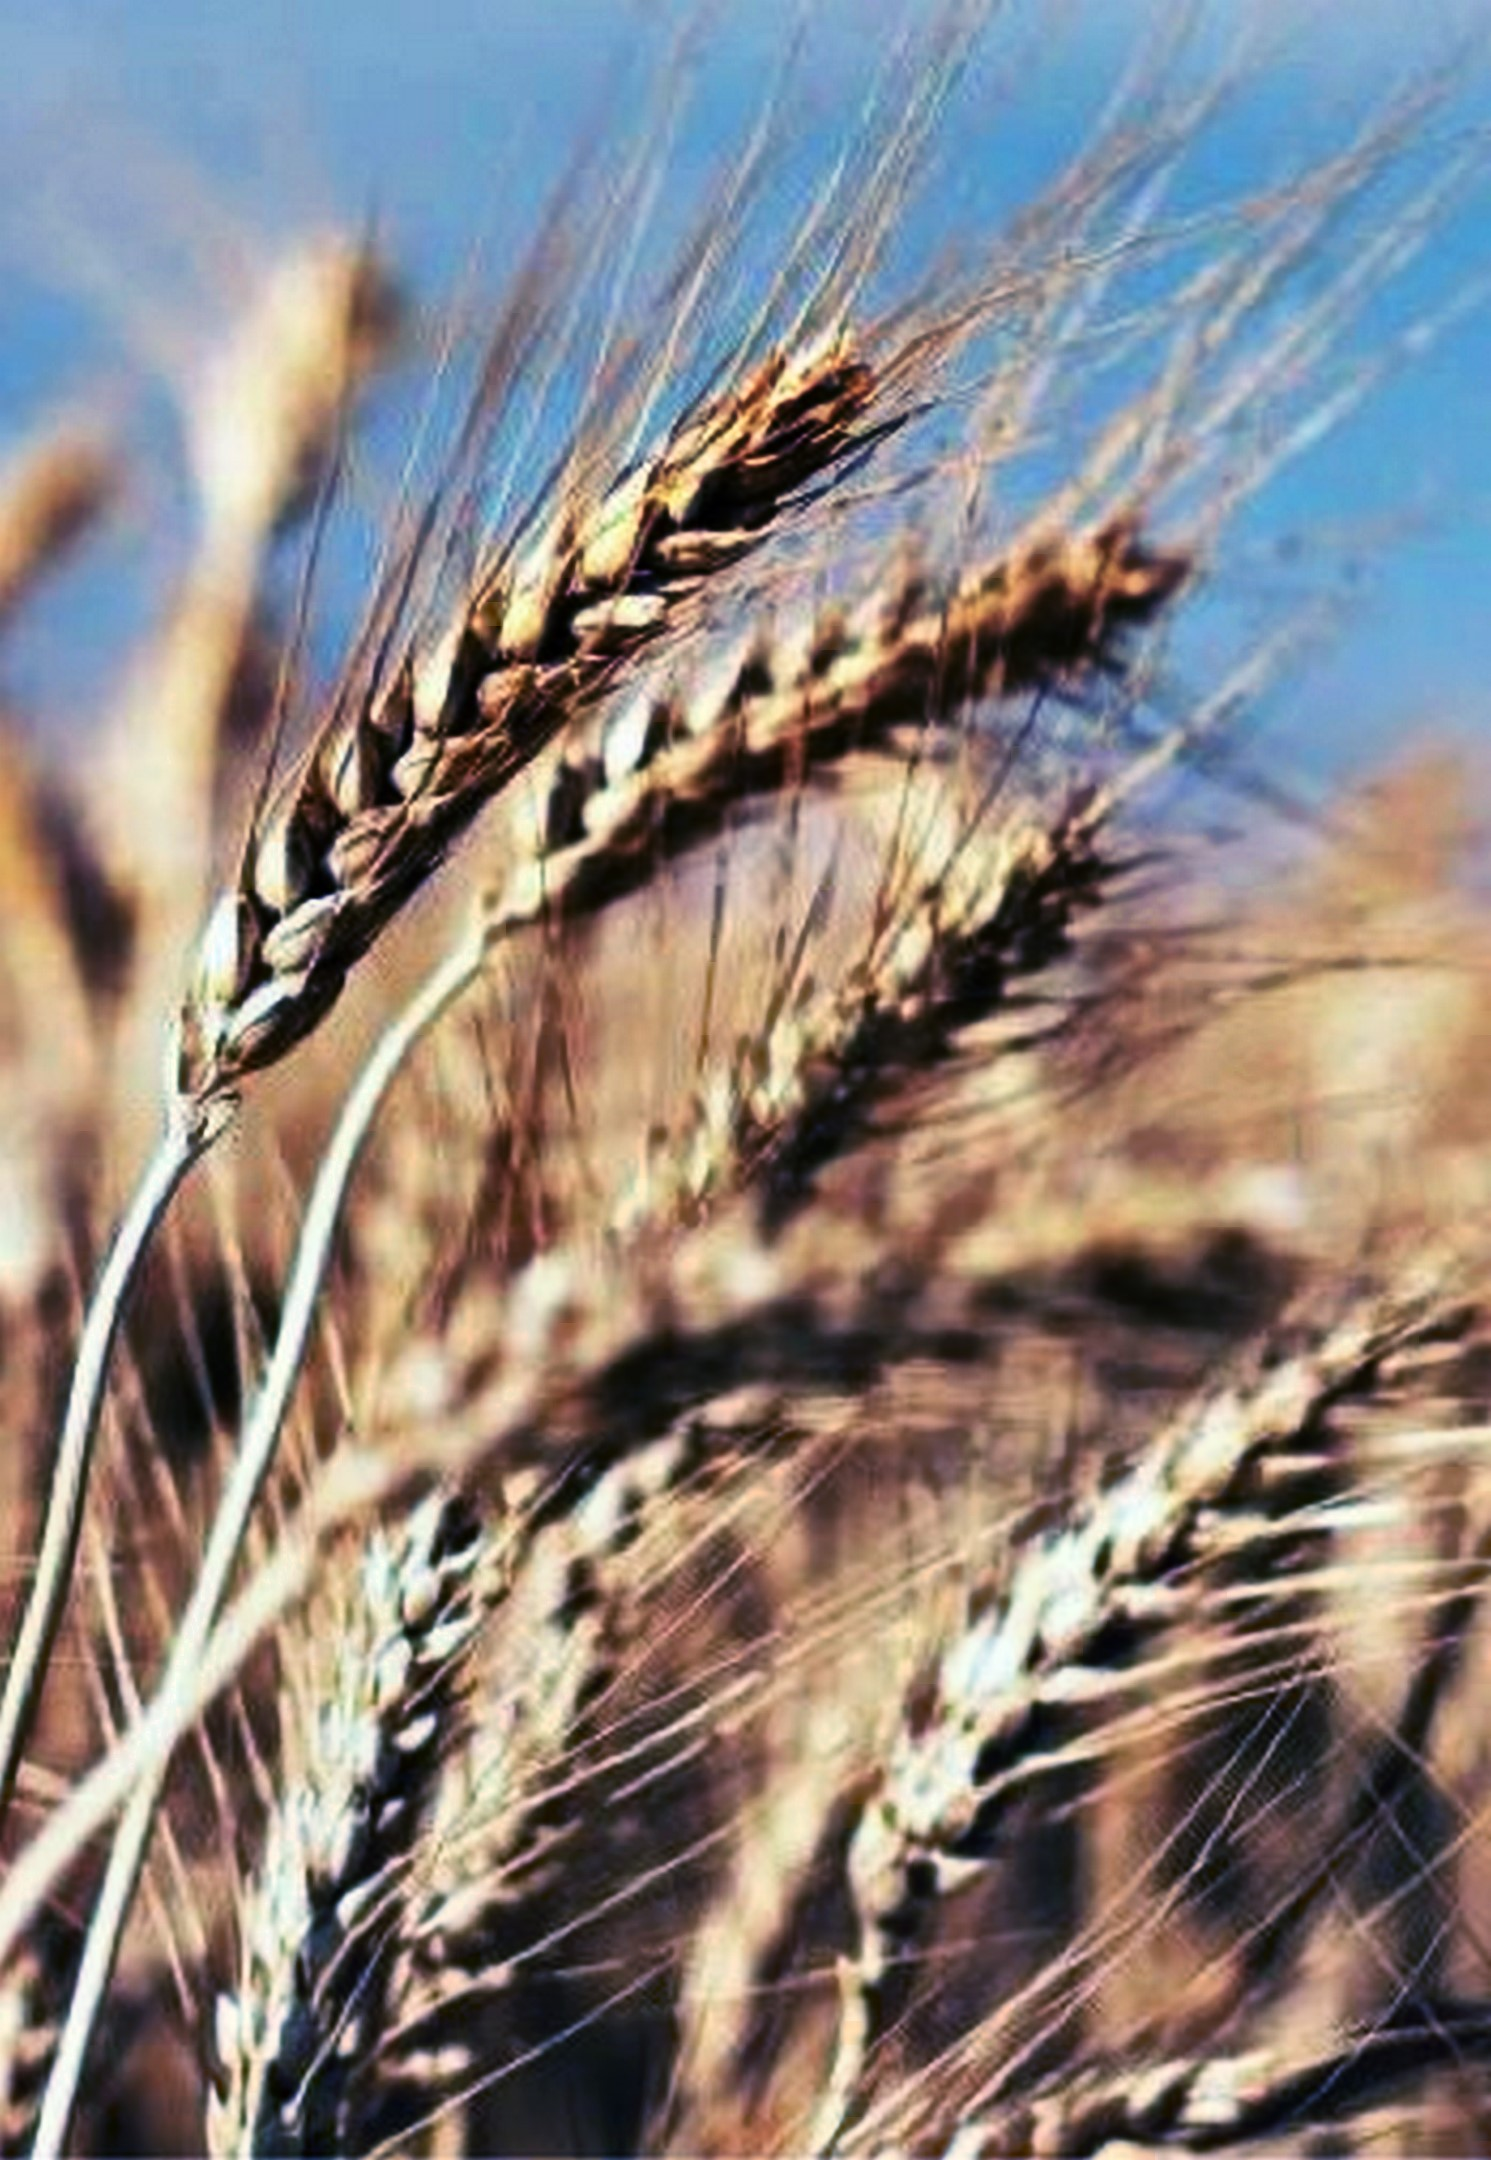Healthy Wheat: (148, 284, 918, 1152)
